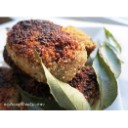cutlet: (9, 20, 87, 83)
